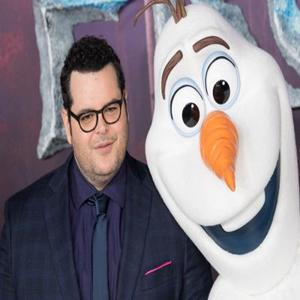olaf: (134, 6, 296, 256)
